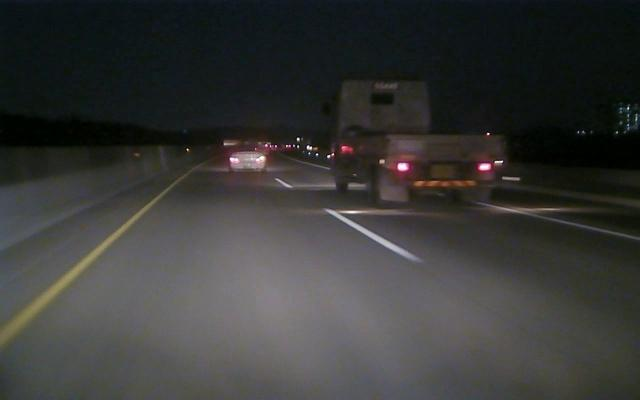lane: (3, 191, 167, 349), (275, 178, 423, 262), (472, 201, 639, 241)
